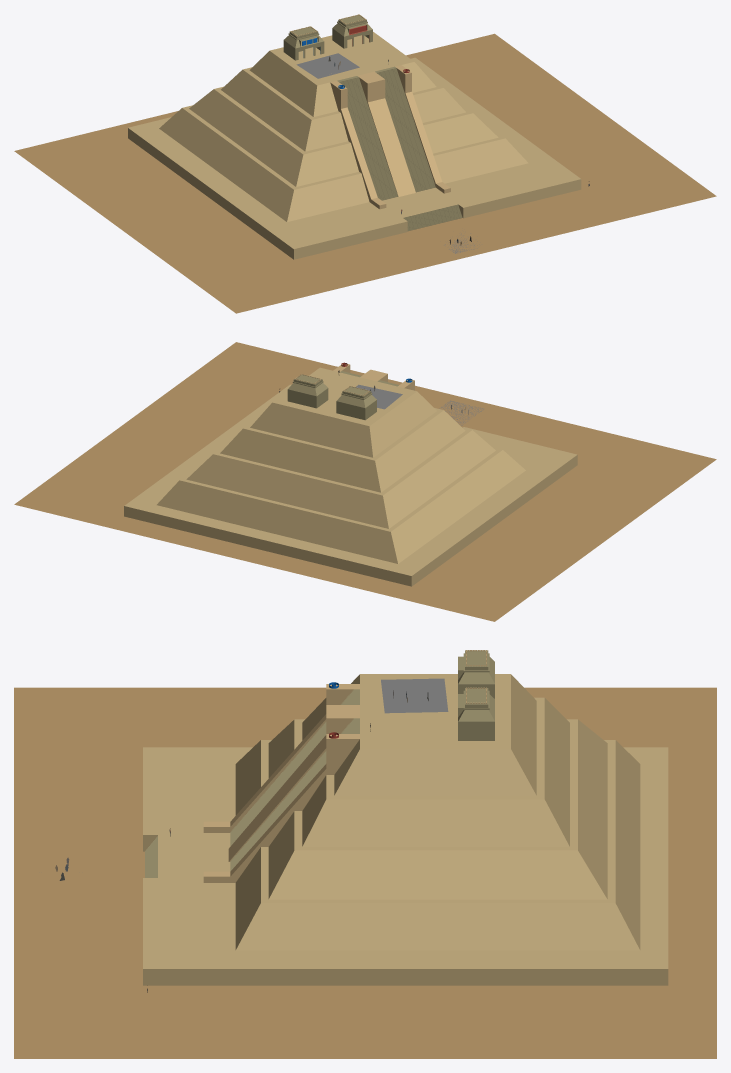
Rendered from piramide.dae.
The picture shows the model from 3 angles, top to bottom: view 1: azimuth 30°, elevation 25°; view 2: azimuth 150°, elevation 25°; view 3: azimuth 270°, elevation 25°; orthographic projection. The views are drawn at different scales.
Parts seen in each view (by area): view 1: instance_2 (×11), instance_0, instance_18; view 2: instance_2 (×9), instance_0, instance_18; view 3: instance_2 (×13), instance_0, instance_18.
Boxes of the visible parts, bbox=[...] form: instance_2 (×11): bbox=[128, 15, 581, 259]; instance_0: bbox=[14, 33, 716, 313]; instance_18: bbox=[296, 53, 359, 78]; instance_2 (×9): bbox=[124, 367, 577, 586]; instance_0: bbox=[14, 342, 716, 621]; instance_18: bbox=[356, 384, 402, 409]; instance_2 (×13): bbox=[143, 650, 668, 985]; instance_0: bbox=[14, 687, 716, 1058]; instance_18: bbox=[381, 678, 448, 713].
Size of the model in its own units: 6537 by 5232 by 1624.
